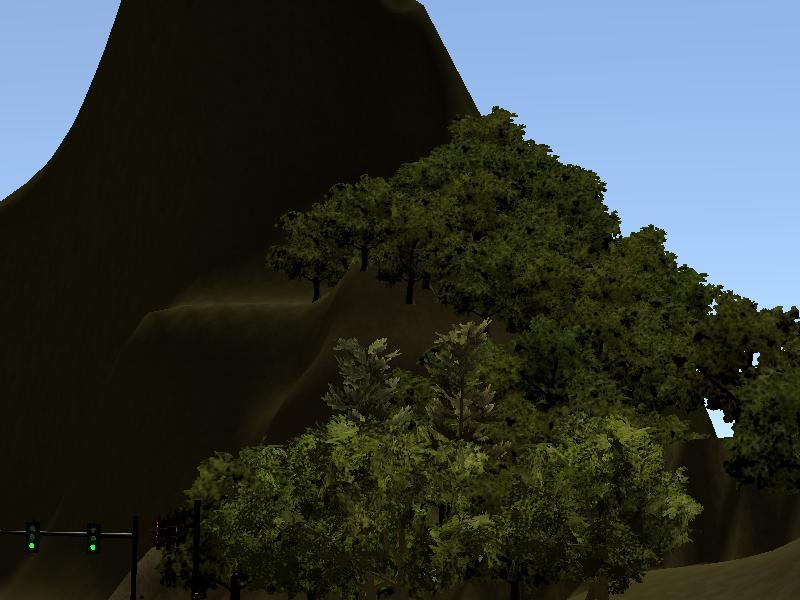Green: (82, 518, 99, 556), (25, 522, 39, 553)
